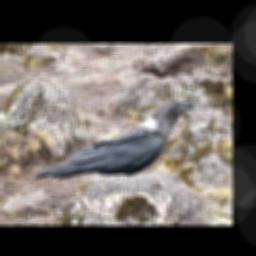Crow: (30, 99, 195, 181)
